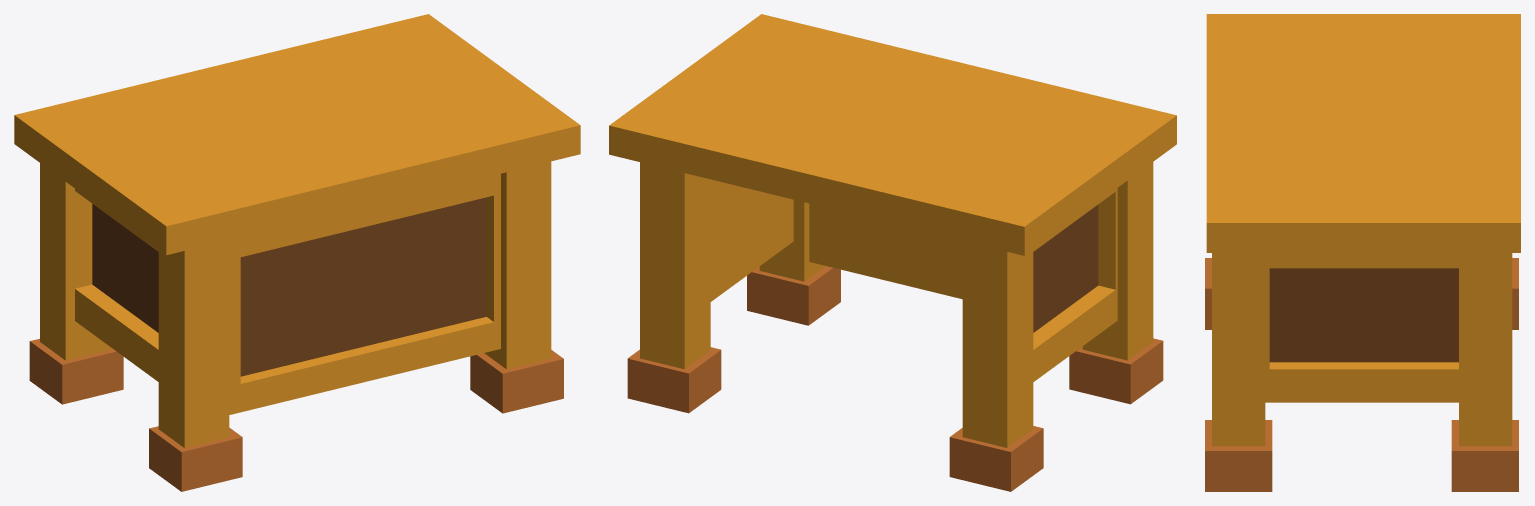
File: teacher table.fbx
3 views of the same model, side by side, from view 1: azimuth 30°, elevation 25°; view 2: azimuth 150°, elevation 25°; view 3: azimuth 270°, elevation 25° (orthographic). The views are drawn at different scales.
Visible parts, largest first — view 1: Cube.018, Cube.021, Cube.023, Cube.024, Cube.020, Cube.022, Cube.027, Cube.028, Cube.030; view 2: Cube.018, Cube.022, Cube.025, Cube.020, Cube.021, Cube.023, Cube.019, Cube.029, Cube.028, Cube.027, Cube.030, Cube.024; view 3: Cube.018, Cube.019, Cube.024, Cube.025, Cube.029, Cube.030, Cube.027, Cube.028.
Part boxes in pixels (<box>): Cube.018: <box>14,14,580,255</box>; Cube.021: <box>229,173,500,414</box>; Cube.023: <box>158,240,229,447</box>; Cube.024: <box>484,161,551,369</box>; Cube.020: <box>75,189,158,381</box>; Cube.022: <box>40,163,110,360</box>; Cube.027: <box>149,426,242,491</box>; Cube.028: <box>29,338,123,404</box>; Cube.030: <box>470,350,563,413</box>; Cube.018: <box>609,14,1176,255</box>; Cube.022: <box>962,241,1033,447</box>; Cube.025: <box>640,162,710,369</box>; Cube.020: <box>1033,188,1117,381</box>; Cube.021: <box>809,203,962,299</box>; Cube.023: <box>1082,162,1153,360</box>; Cube.019: <box>710,179,793,301</box>; Cube.029: <box>627,347,721,413</box>; Cube.028: <box>949,426,1043,491</box>; Cube.027: <box>1069,338,1163,404</box>; Cube.030: <box>747,266,840,325</box>; Cube.024: <box>759,200,825,281</box>; Cube.018: <box>1206,14,1520,252</box>; Cube.019: <box>1265,253,1458,402</box>; Cube.024: <box>1212,253,1265,446</box>; Cube.025: <box>1459,253,1512,446</box>; Cube.029: <box>1451,420,1518,491</box>; Cube.030: <box>1205,420,1272,491</box>; Cube.027: <box>1205,258,1211,329</box>; Cube.028: <box>1512,258,1518,329</box>.
Bounding box in the file's own units: 6836 × 4236 × 4366.
